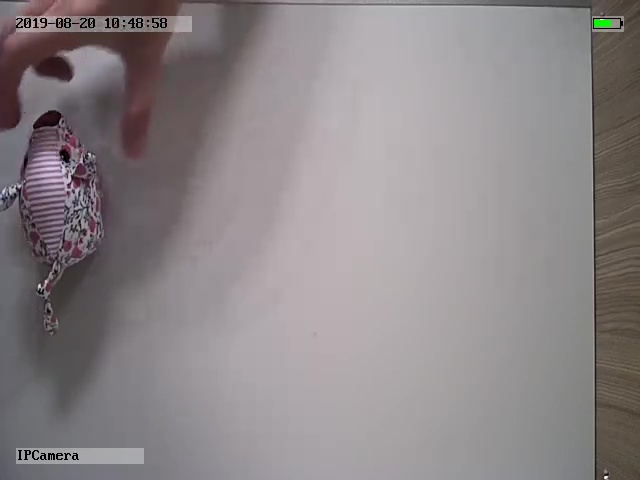pig: (2, 110, 111, 339)
